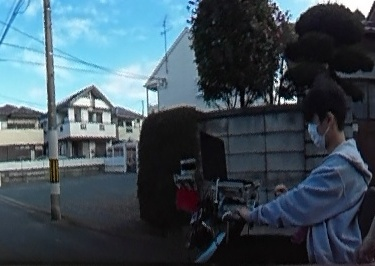person: (242, 79, 369, 266)
